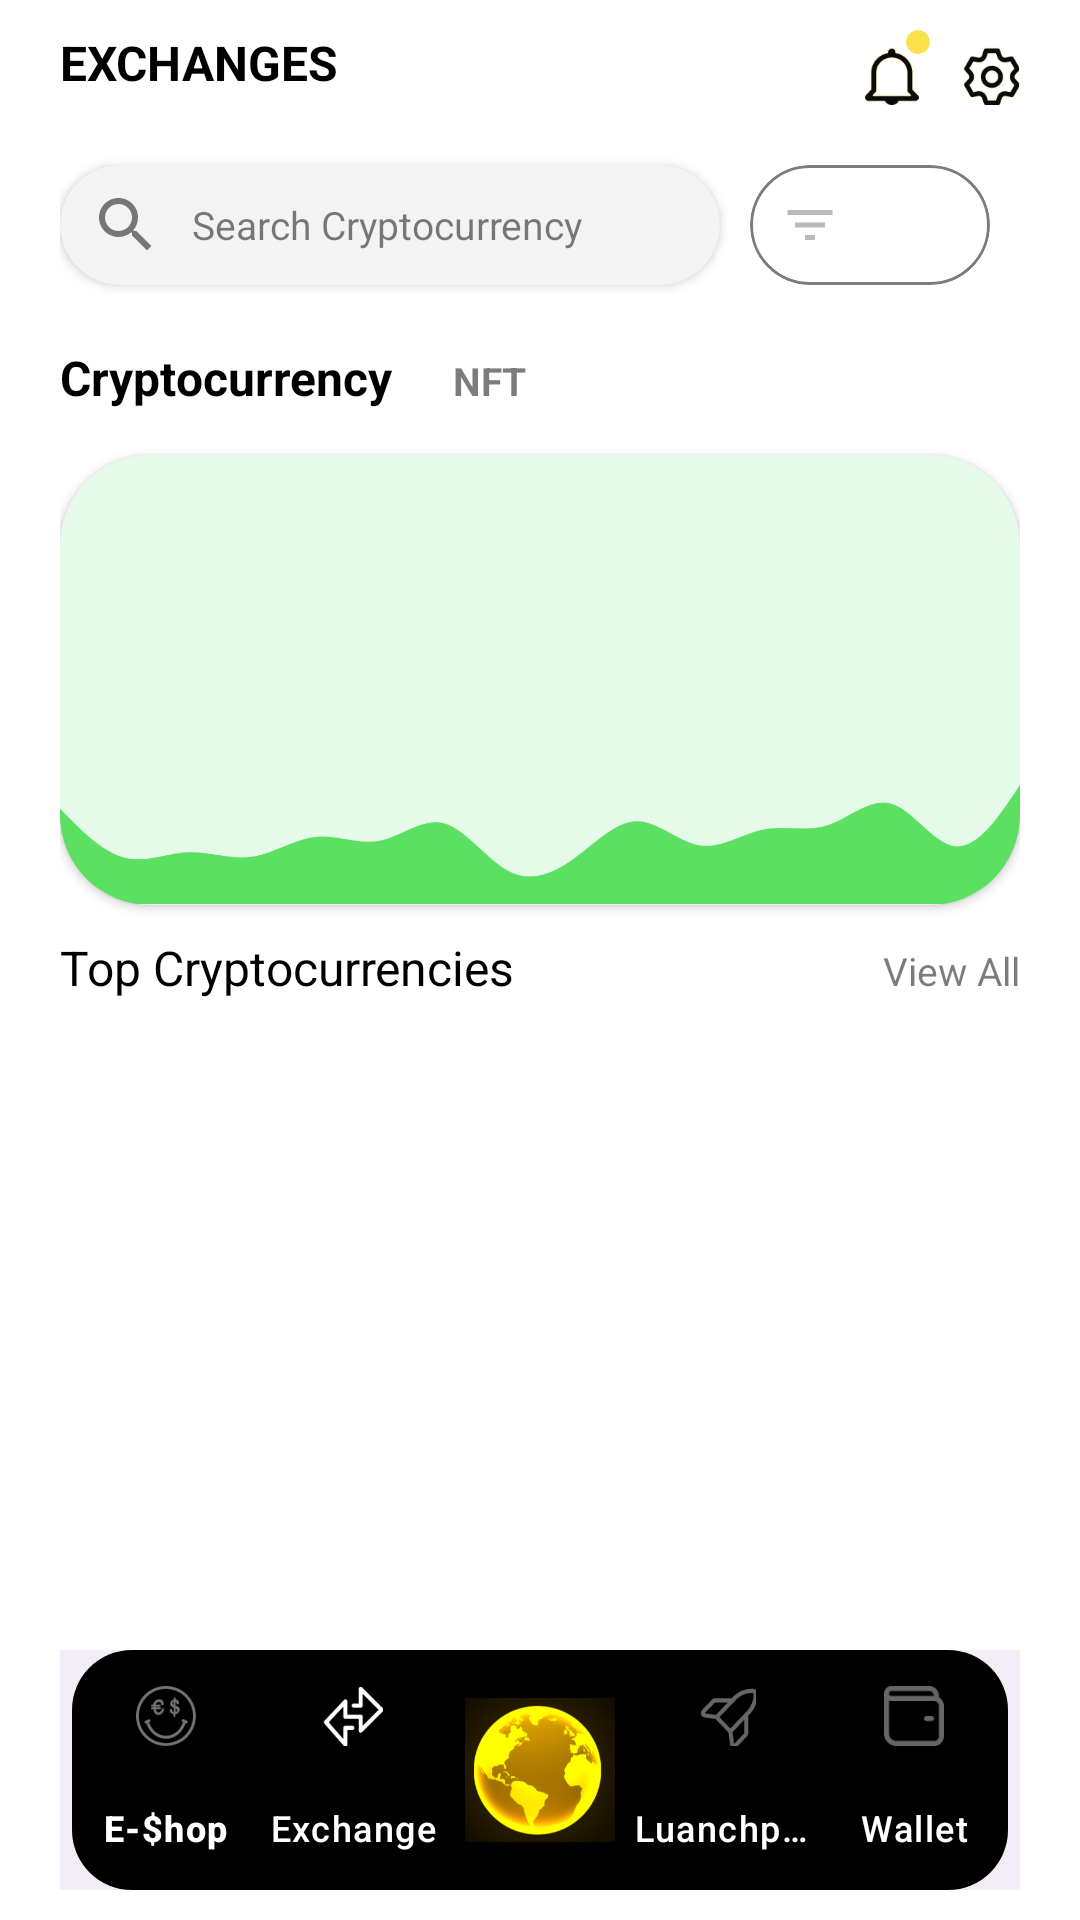

Screen size 1080px×1920px. Icon name, then its center in pixels as (x,y):
filter: (810,225)
notification: (891,76)
setting: (991,76)
